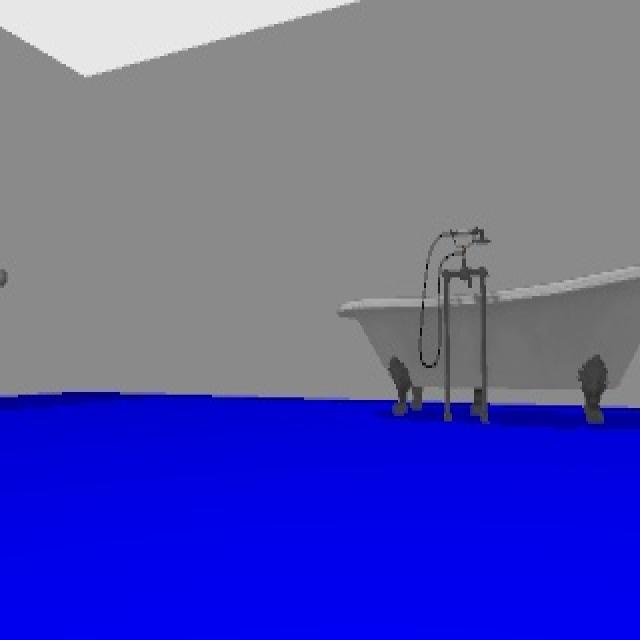bathtub: (340, 221, 638, 419)
